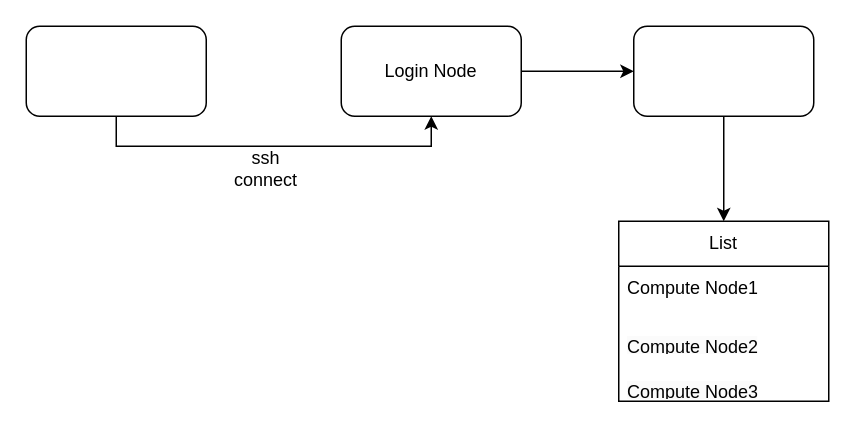
Some shapes in this 855 by 428 pixel diagram are drawn without their labels. The shapes that lost their labels are listed below. From the top down, each one's centre as x and y in pixels, then its label:
At point (115, 70): "User".
At point (723, 70): "LSF job scheduling system".
